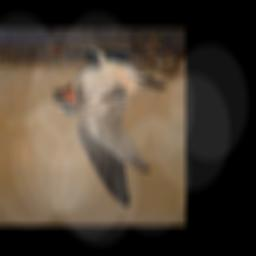Swallow: (52, 47, 169, 208)
